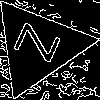Z: (12, 21, 71, 68)
